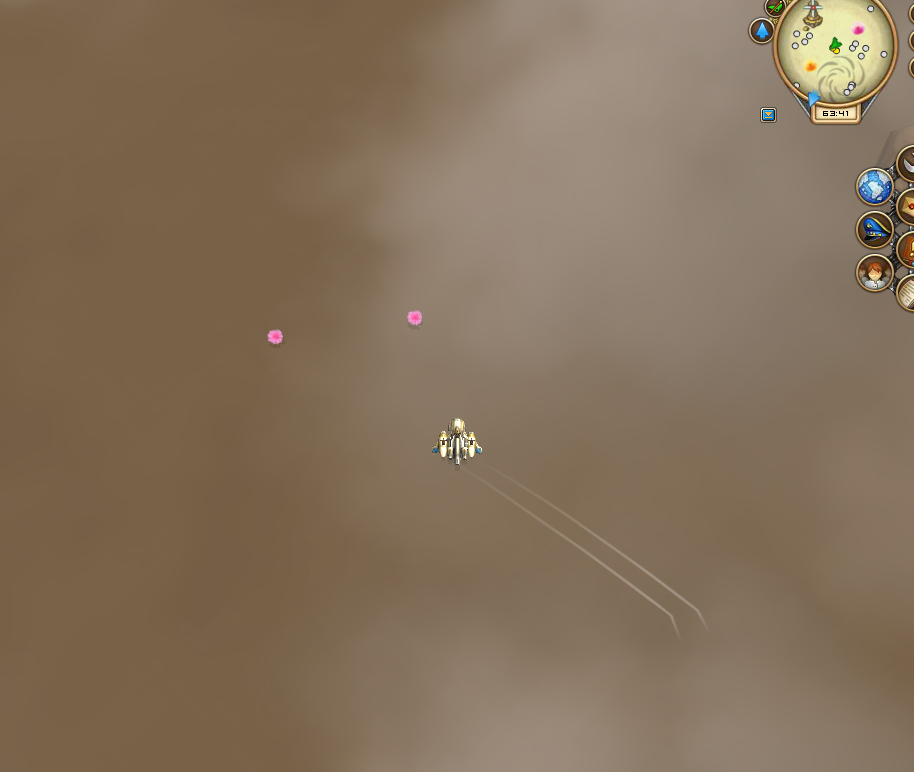fluff: (396, 299, 430, 332), (263, 320, 288, 353)
